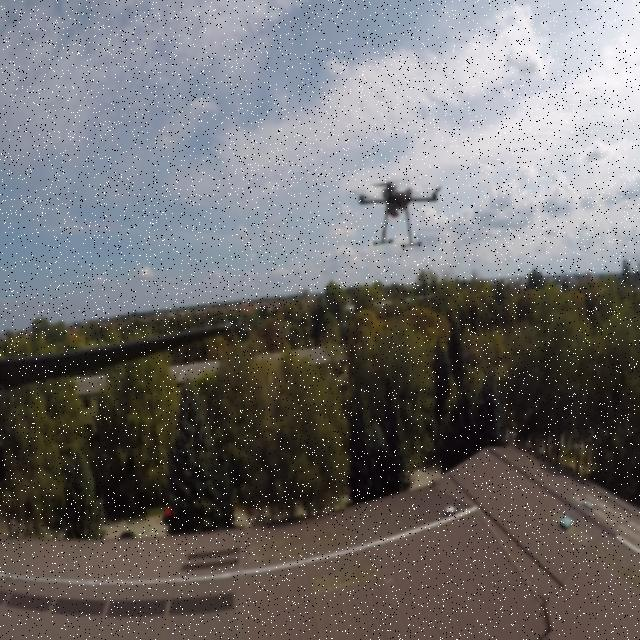UAV: (348, 173, 450, 255)
